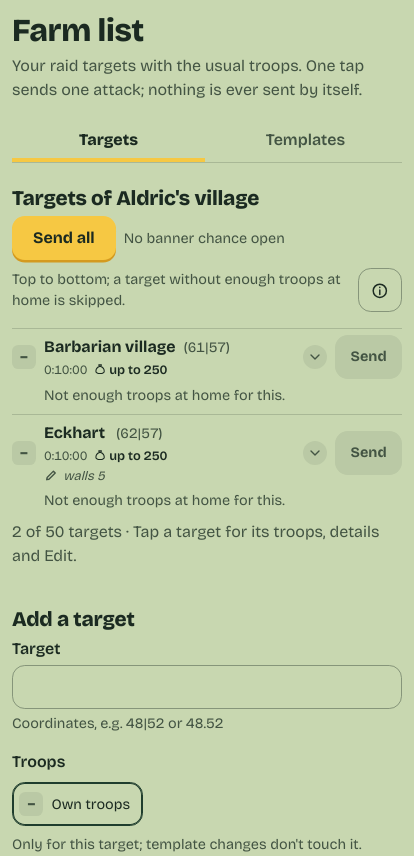
Test case: FarmPage › switches between the targets and the templates and keeps both cards on the page
The width and height of the screenshot is (414, 856).
Click the button "Templates". click: (306,140)
box: [209,118,402,162]
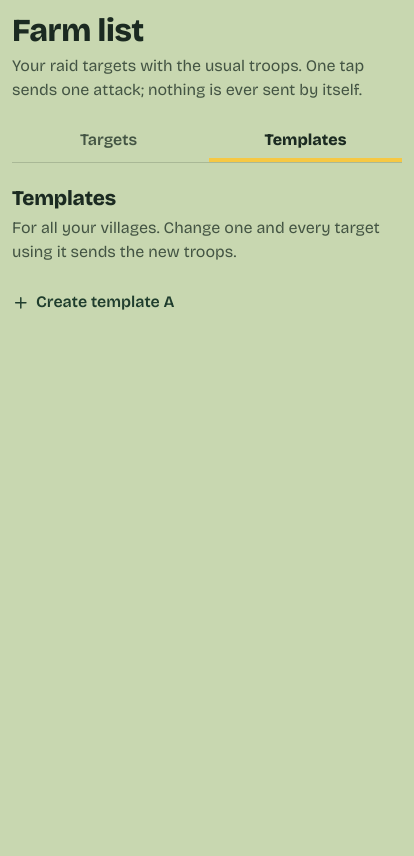
expect the heading "Templates" is shown: met, box [12,186,116,211]
